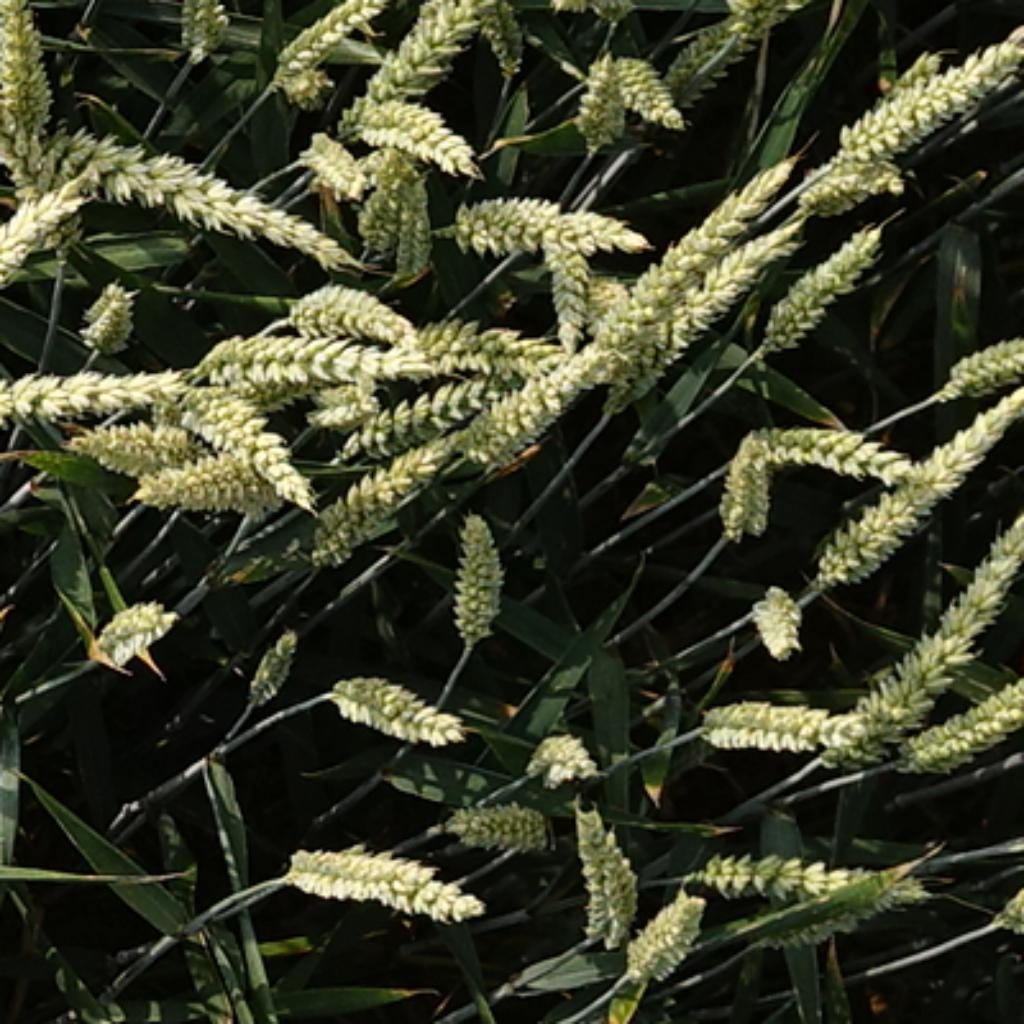0-0: (17, 115, 355, 276), (591, 153, 798, 396), (821, 517, 1024, 757), (796, 386, 1024, 591), (606, 204, 824, 417), (814, 20, 1016, 184), (168, 381, 325, 524), (448, 343, 611, 468), (0, 40, 87, 261), (279, 832, 486, 924), (304, 437, 455, 560), (453, 176, 652, 266), (757, 215, 890, 348), (401, 317, 632, 389), (657, 2, 801, 115), (709, 412, 906, 491), (197, 332, 437, 396), (747, 872, 934, 952), (0, 368, 166, 453), (896, 663, 1024, 773), (680, 837, 870, 908), (320, 652, 465, 744), (348, 368, 494, 458), (0, 166, 82, 306), (698, 688, 865, 755), (263, 2, 384, 94), (363, 2, 478, 94), (440, 501, 512, 642), (350, 84, 476, 163), (69, 414, 202, 488), (568, 798, 640, 934), (130, 450, 286, 512), (532, 222, 601, 355), (711, 419, 788, 535), (286, 281, 427, 340), (622, 880, 709, 975), (0, 2, 58, 135), (87, 591, 179, 670), (931, 327, 1024, 401), (616, 40, 688, 133), (442, 788, 552, 847), (791, 161, 916, 212), (870, 43, 947, 125), (240, 627, 304, 711), (570, 53, 627, 145), (742, 573, 803, 655), (76, 276, 138, 353), (604, 829, 642, 949), (527, 727, 601, 785), (358, 163, 401, 261), (302, 125, 363, 189), (396, 176, 435, 276), (468, 2, 524, 71), (302, 389, 384, 432), (168, 2, 235, 53), (240, 476, 317, 517), (276, 61, 330, 104)
